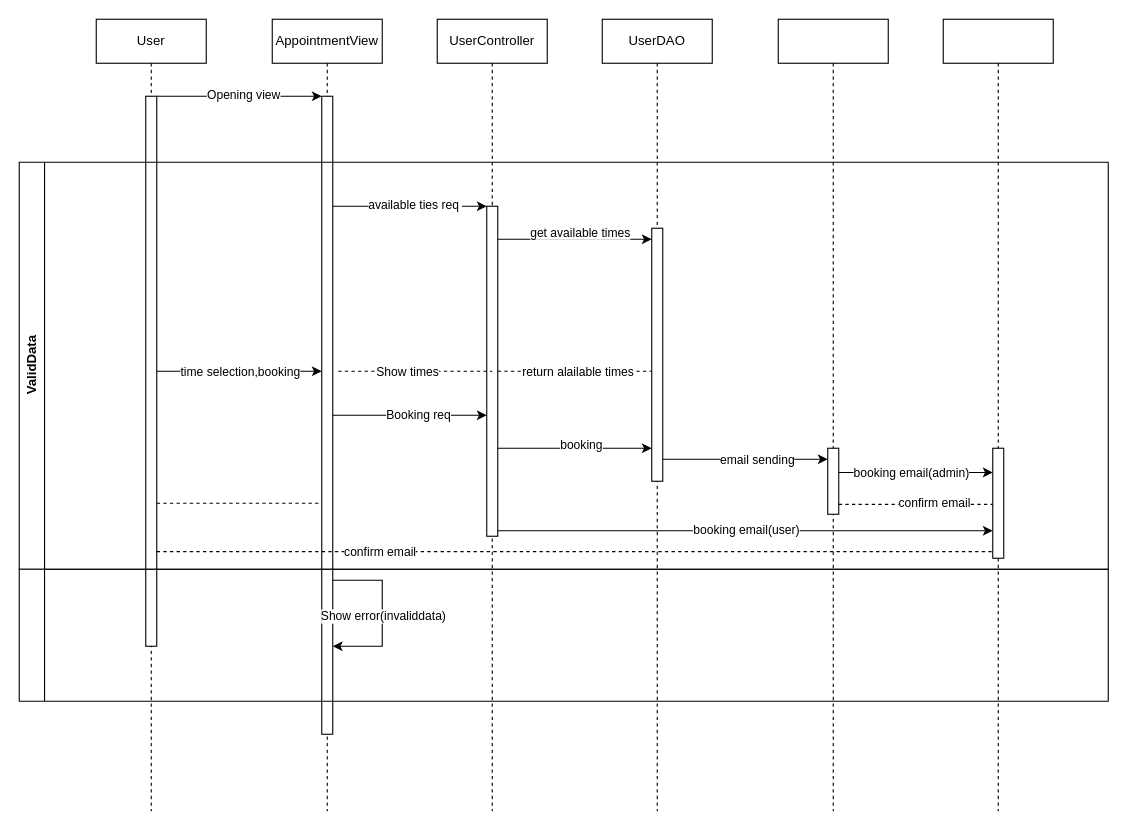
The diagram is 1128 pixels wide and 831 high, and some of its shapes have lost their labels. The centre of each missing label's shape, as x and y in pixels:
Admin: point (832, 414)
EmailService: point (997, 414)
InvalidData: point (563, 634)
